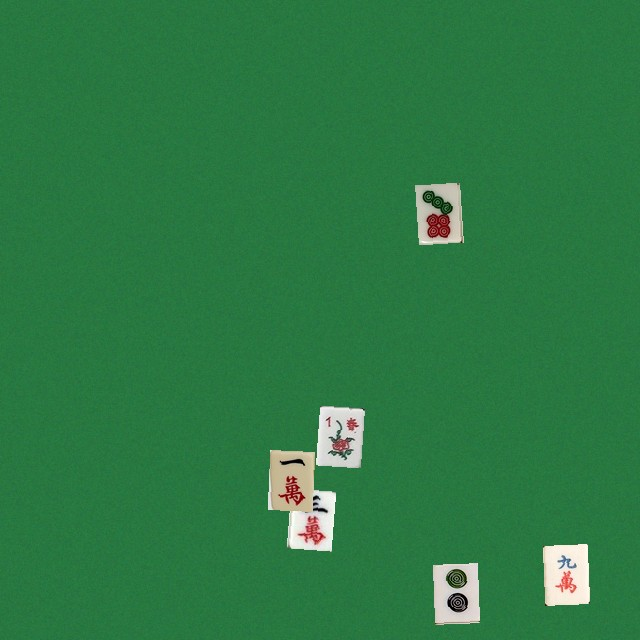tile: (432, 563, 477, 623), (286, 488, 331, 548), (267, 450, 312, 510), (315, 405, 360, 465), (415, 182, 460, 242), (542, 544, 587, 604)
